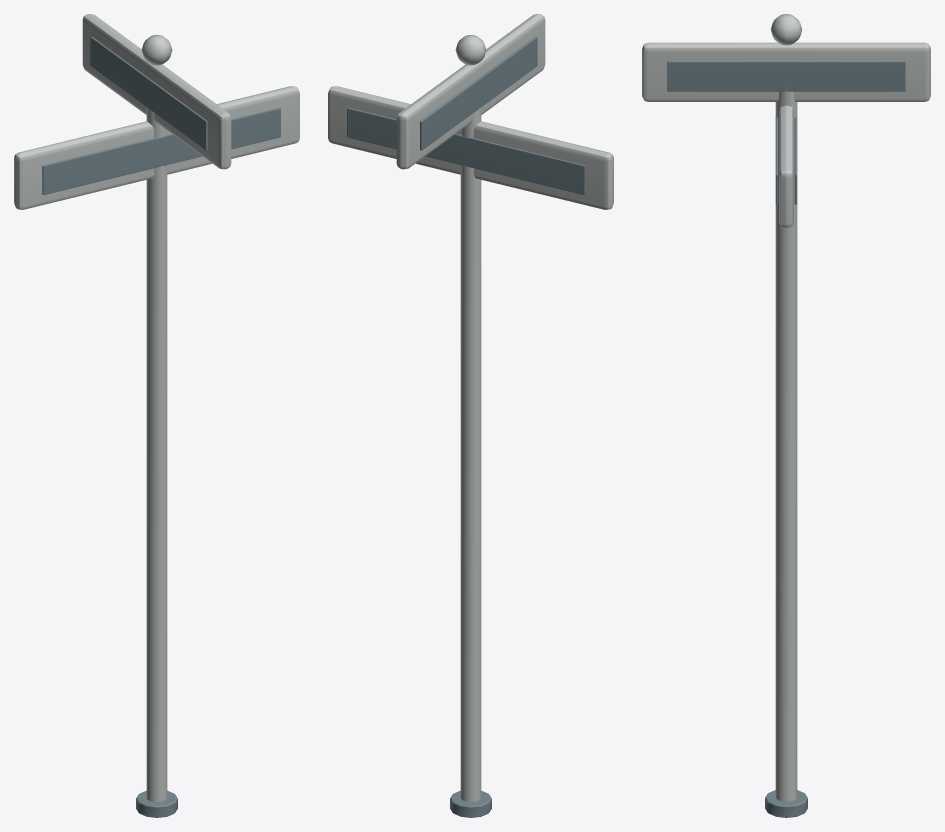
File: street-sign.glb
3 renders of one model, left to right at view 1: azimuth 30°, elevation 25°; view 2: azimuth 150°, elevation 25°; view 3: azimuth 270°, elevation 25°, orthographic. The views are drawn at different scales.
Parts seen in each view (by area): view 1: street_post, street_plate, plate_inset.001, cross_street_plate, cross_inset, street_post_foot, post_finial; view 2: street_post, street_plate, plate_inset, cross_street_plate, cross_inset, street_post_foot, post_finial; view 3: street_post, cross_street_plate, cross_inset.001, street_plate, street_post_foot, post_finial.
Boxes of the visible parts, x1=… form: street_post: x1=146, y1=107, x2=167, y2=801; street_plate: x1=14, y1=86, x2=299, y2=209; plate_inset.001: x1=42, y1=107, x2=280, y2=194; cross_street_plate: x1=82, y1=14, x2=231, y2=169; cross_inset: x1=90, y1=36, x2=207, y2=150; street_post_foot: x1=136, y1=790, x2=177, y2=817; post_finial: x1=141, y1=35, x2=172, y2=65; street_post: x1=460, y1=107, x2=481, y2=801; street_plate: x1=328, y1=86, x2=613, y2=209; plate_inset: x1=347, y1=107, x2=585, y2=194; cross_street_plate: x1=396, y1=14, x2=545, y2=169; cross_inset: x1=420, y1=36, x2=537, y2=150; street_post_foot: x1=450, y1=790, x2=491, y2=817; post_finial: x1=455, y1=35, x2=486, y2=65; street_post: x1=775, y1=86, x2=797, y2=801; cross_street_plate: x1=642, y1=42, x2=930, y2=101; cross_inset.001: x1=667, y1=61, x2=905, y2=91; street_plate: x1=779, y1=105, x2=793, y2=227; street_post_foot: x1=765, y1=790, x2=807, y2=817; post_finial: x1=770, y1=14, x2=802, y2=45.
Size of the model in its own units: 1 by 2.61 by 0.86.
